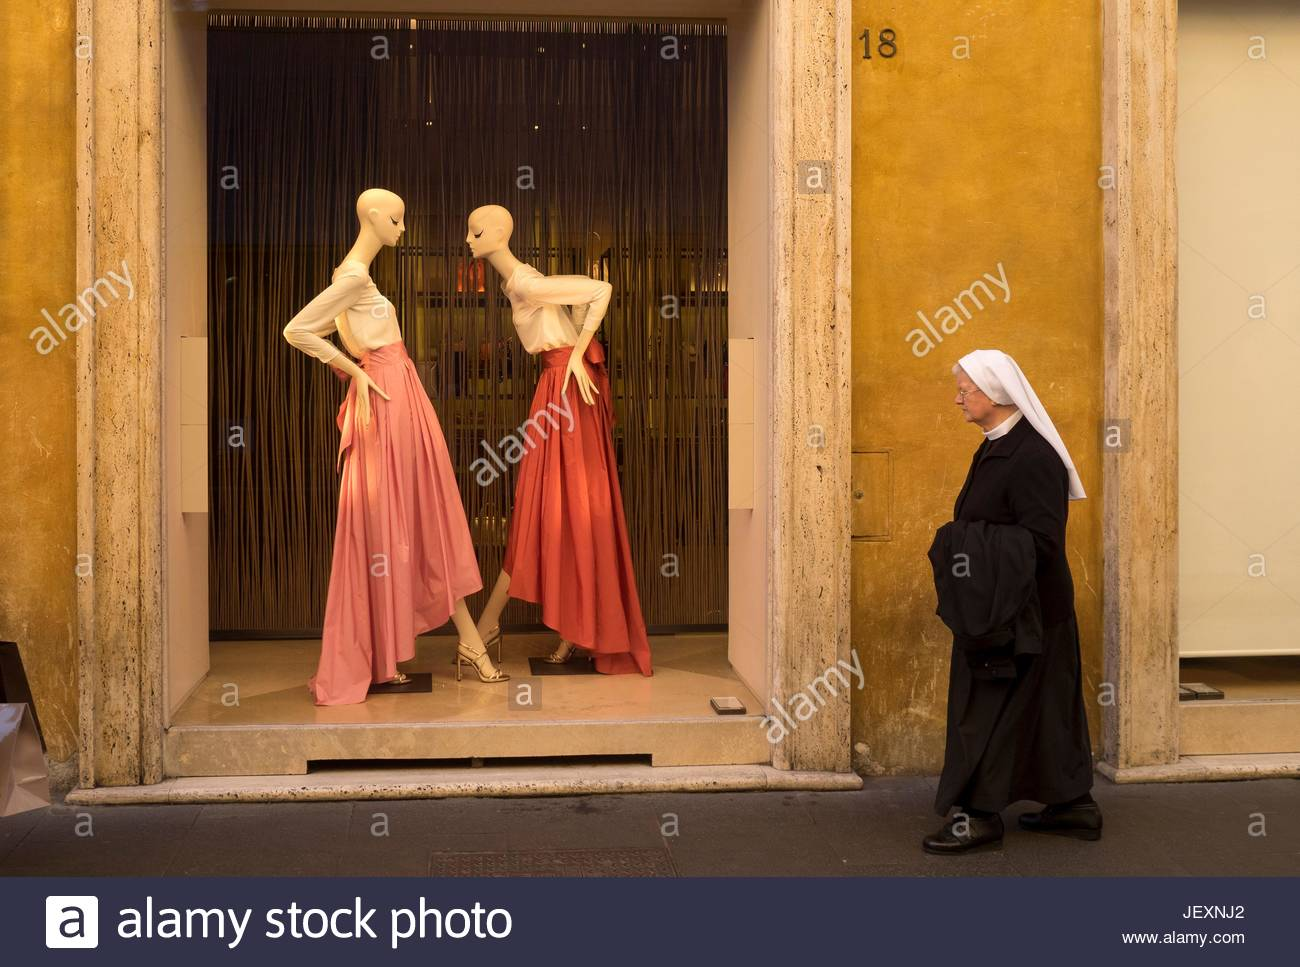person: (914, 341, 1126, 866)
person-like: (274, 177, 516, 711), (454, 197, 660, 685)
